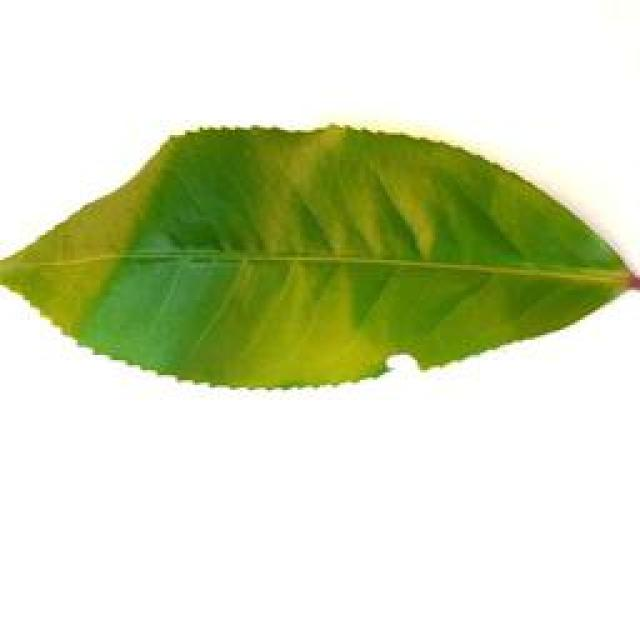Healthy: (0, 108, 640, 399)
